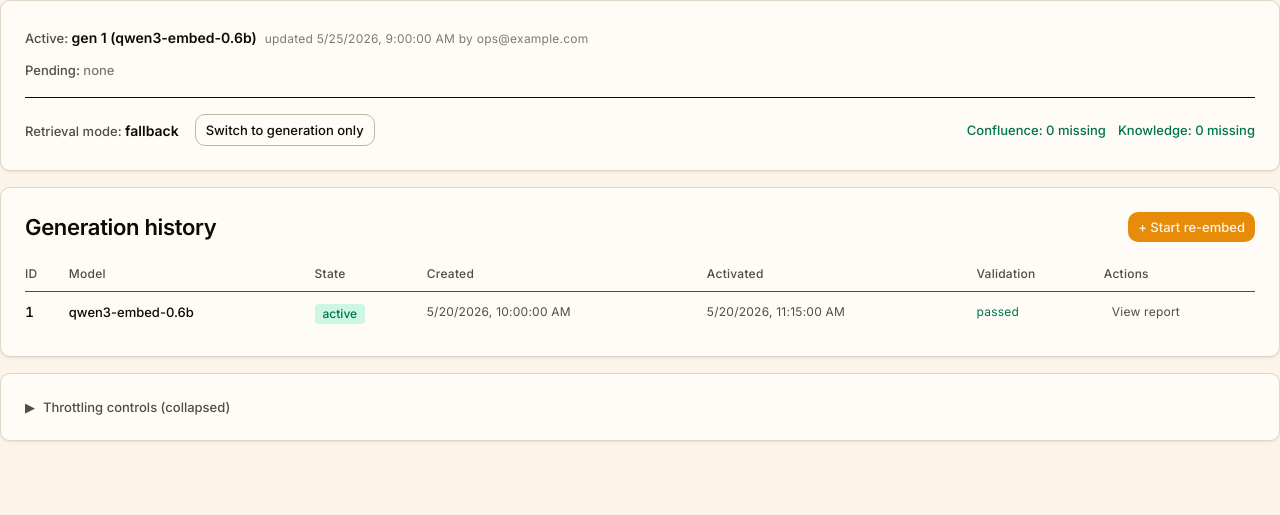
Test: EmbedderLifecyclePanel — retrieval-mode flip › Retrieval-mode flip 422 coverage_gap_present surfaces error banner
Click the button with test id "retrieval-mode-flip-btn" at (285, 130), box [195,114,375,146]
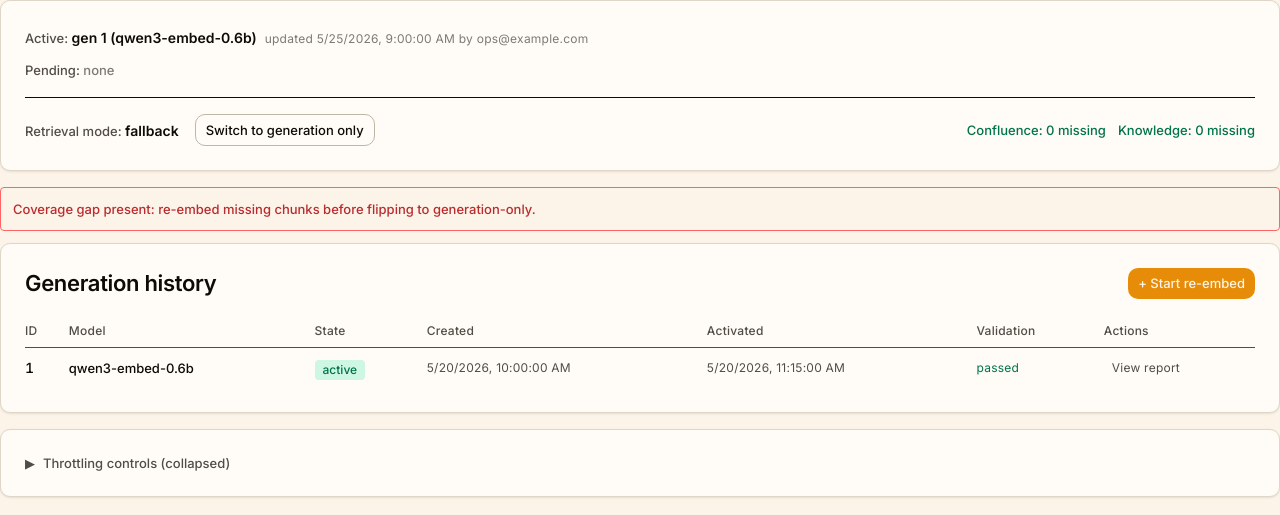
Now the message with test id "embedder-error-banner" is shown, box [0,187,1279,231]
Now the message with test id "embedder-error-banner" shows "Coverage gap present", box [13,201,536,217]
